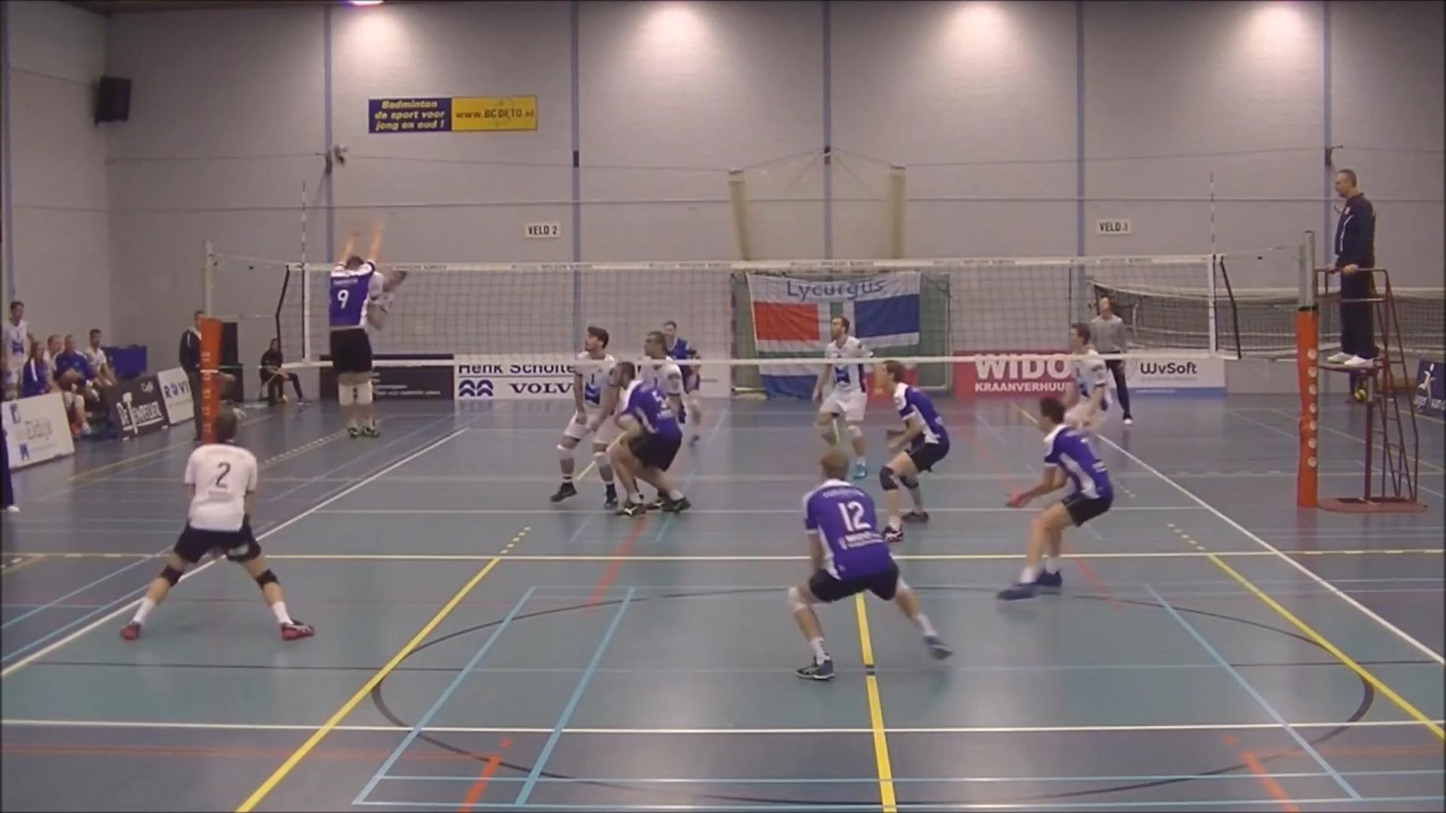Attack: (346, 243, 410, 347)
Block: (295, 214, 394, 448)
Player: (120, 406, 313, 640), (788, 447, 951, 681), (998, 397, 1113, 599), (877, 360, 949, 543), (610, 362, 690, 516), (550, 326, 618, 507), (813, 316, 871, 480), (1065, 324, 1110, 434), (663, 320, 703, 443)
